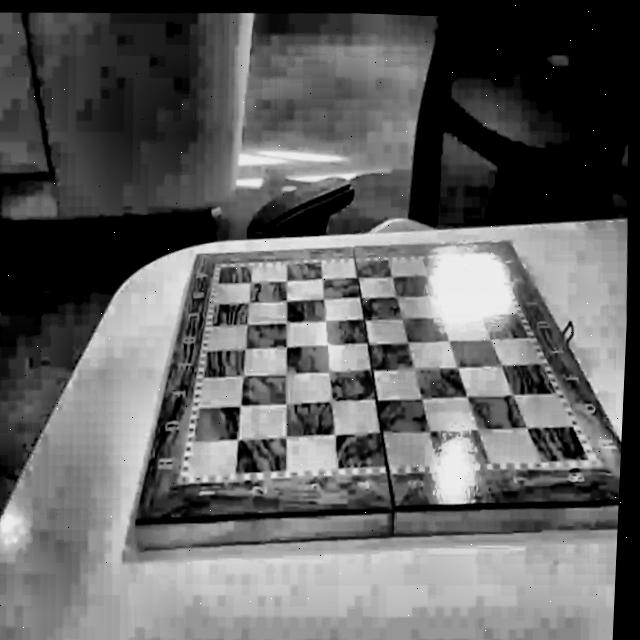chessboard: (134, 235, 620, 521)
